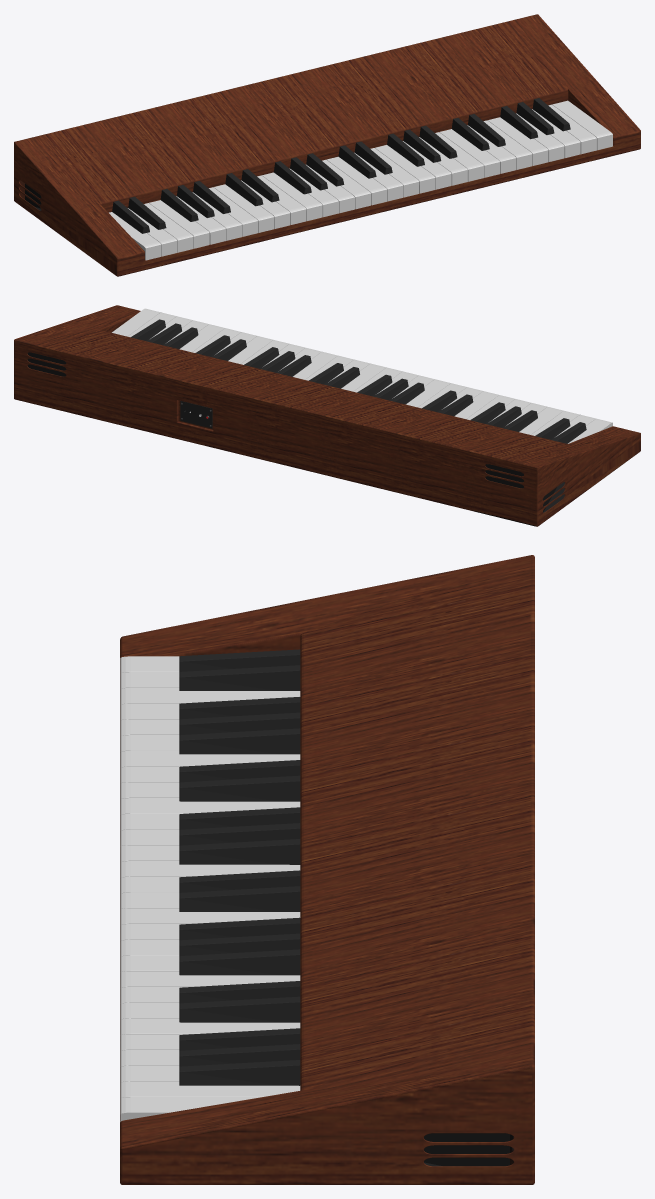
Rendered from 02_Piano.glb.
3 views of the same model, one above another, from view 1: azimuth 30°, elevation 25°; view 2: azimuth 150°, elevation 25°; view 3: azimuth 270°, elevation 25° (orthographic). The views are drawn at different scales.
Visible parts, largest first — view 1: 02_00_Keyboard_Export; view 2: 02_00_Keyboard_Export; view 3: 02_00_Keyboard_Export.
Part boxes in pixels (bbox=[...]): 02_00_Keyboard_Export: bbox=[14, 14, 640, 276]; 02_00_Keyboard_Export: bbox=[14, 305, 640, 526]; 02_00_Keyboard_Export: bbox=[120, 555, 534, 1184].
Bounding box in the file's own units: 1.46 × 0.159 × 0.5.
1 material, 1 textured.
